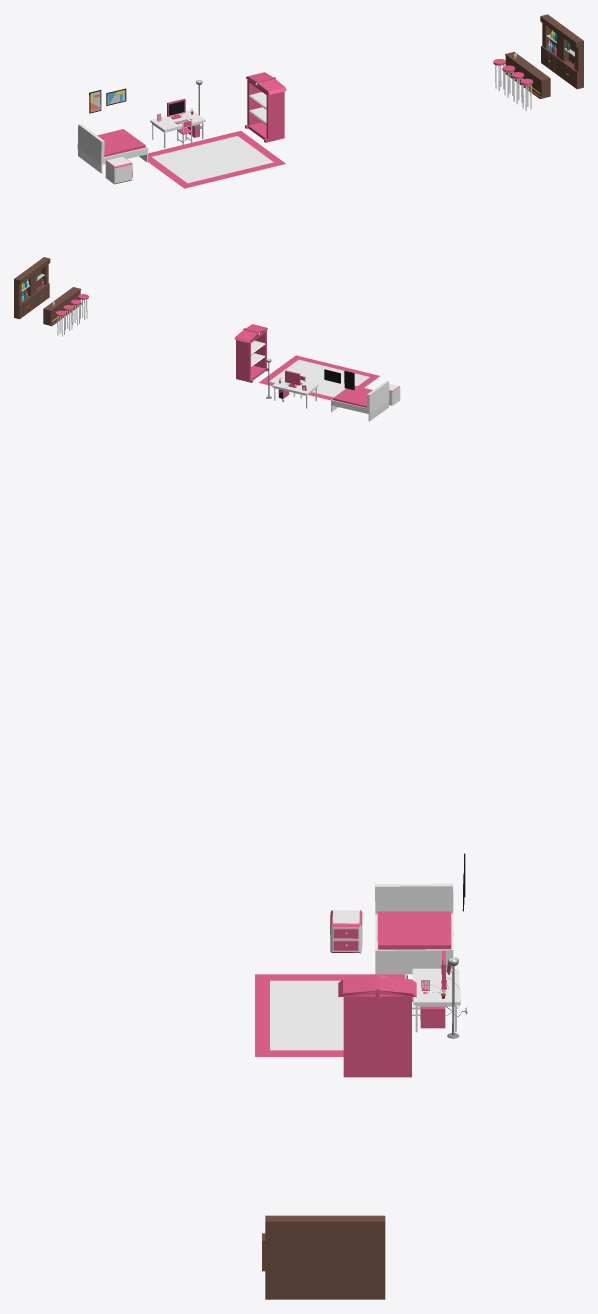
File: stuff.obj
The picture shows the model from 3 angles, top to bottom: view 1: azimuth 30°, elevation 25°; view 2: azimuth 150°, elevation 25°; view 3: azimuth 270°, elevation 25°; orthographic projection. The views are drawn at different scales.
Parts seen in each view (by area): view 1: mesh1398269573.001, mesh1870665445, mesh1398269573, mesh246572757, mesh246572757.001, mesh862038241, mesh2141036509, mesh834466, mesh1843569781, mesh2129603691, mesh1870665445.001, mesh1956793512 (+2 smaller); view 2: mesh1870665445, mesh1398269573.001, mesh246572757, mesh1398269573, mesh246572757.001, mesh1843569781, mesh834466; view 3: mesh1870665445, mesh1398269573.001, mesh1619129973, mesh193657805, mesh246572757, mesh246572757.001, mesh1398269573, mesh834466.
Part boxes in pixels (x1=…): mesh1398269573.001: x1=152, y1=136, x2=273, y2=183; mesh1870665445: x1=245, y1=72, x2=286, y2=142; mesh1398269573: x1=148, y1=131, x2=285, y2=188; mesh246572757: x1=77, y1=123, x2=148, y2=173; mesh246572757.001: x1=97, y1=129, x2=145, y2=156; mesh862038241: x1=523, y1=65, x2=550, y2=98; mesh2141036509: x1=105, y1=157, x2=132, y2=184; mesh834466: x1=150, y1=110, x2=205, y2=131; mesh1843569781: x1=505, y1=51, x2=531, y2=84; mesh2129603691: x1=559, y1=59, x2=583, y2=89; mesh1870665445.001: x1=249, y1=82, x2=266, y2=123; mesh1956793512: x1=106, y1=88, x2=126, y2=105; mesh1870665445: x1=234, y1=324, x2=268, y2=382; mesh1398269573.001: x1=269, y1=359, x2=369, y2=397; mesh246572757: x1=331, y1=380, x2=389, y2=421; mesh1398269573: x1=258, y1=355, x2=379, y2=400; mesh246572757.001: x1=332, y1=386, x2=372, y2=407; mesh1843569781: x1=43, y1=298, x2=66, y2=325; mesh834466: x1=272, y1=377, x2=318, y2=395; mesh1870665445: x1=338, y1=975, x2=416, y2=1077; mesh1398269573.001: x1=270, y1=980, x2=343, y2=1050; mesh1619129973: x1=325, y1=1221, x2=385, y2=1299; mesh193657805: x1=265, y1=1221, x2=325, y2=1299; mesh246572757: x1=375, y1=883, x2=453, y2=974; mesh246572757.001: x1=377, y1=911, x2=451, y2=949; mesh1398269573: x1=255, y1=974, x2=405, y2=1056; mesh834466: x1=412, y1=968, x2=459, y2=1005.
Bounding box in the file's own units: 0.7791 × 0.2752 × 0.2244.
